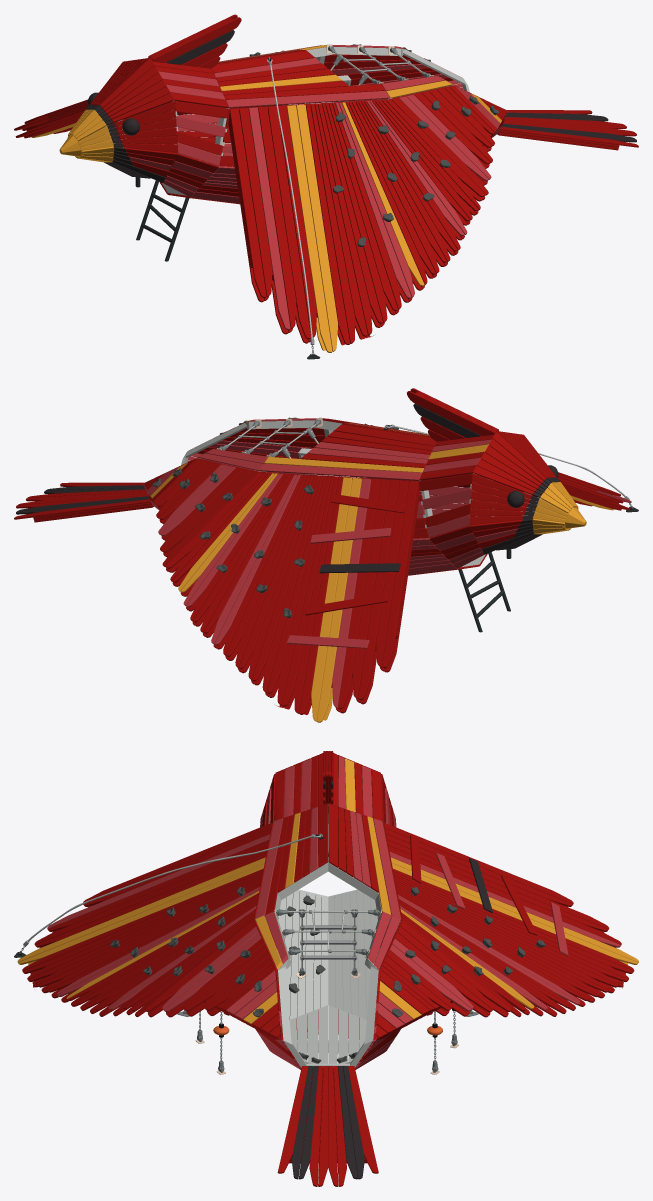
The model's file is rgss-101-scarlet.glb.
3 renders of one model, top to bottom at view 1: azimuth 30°, elevation 25°; view 2: azimuth 150°, elevation 25°; view 3: azimuth 270°, elevation 25°, orthographic. The views are drawn at different scales.
Parts seen in each view (by area): view 1: Body26; view 2: Body26; view 3: Body26.
Boxes of the visible parts, bbox=[...] form: Body26: bbox=[14, 14, 638, 359]; Body26: bbox=[14, 388, 638, 722]; Body26: bbox=[14, 751, 638, 1186].
Size of the model in its own units: 5.9 by 2.11 by 5.45.
Materials: 1 (1 with a texture image).
